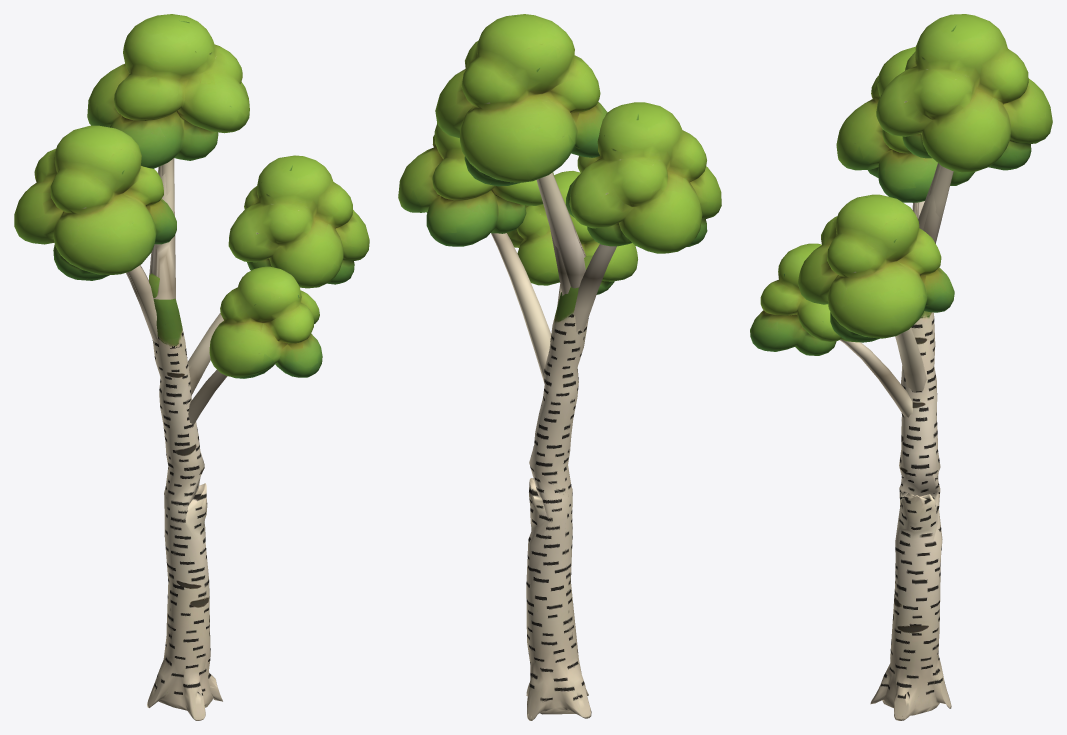
File: birch_tree_v3.glb
3 views of the same model, side by side, from view 1: azimuth 30°, elevation 25°; view 2: azimuth 150°, elevation 25°; view 3: azimuth 270°, elevation 25° (orthographic). The views are drawn at different scales.
Parts seen in each view (by area): view 1: birch_tree_v2; view 2: birch_tree_v2; view 3: birch_tree_v2.
Part boxes in pixels (x1,y1,x2,y2): birch_tree_v2: [14, 14, 369, 720]; birch_tree_v2: [398, 14, 721, 720]; birch_tree_v2: [750, 14, 1052, 720].
Bounding box in the file's own units: 5.01 × 10.27 × 4.09.
Materials: 1 (1 with a texture image).
